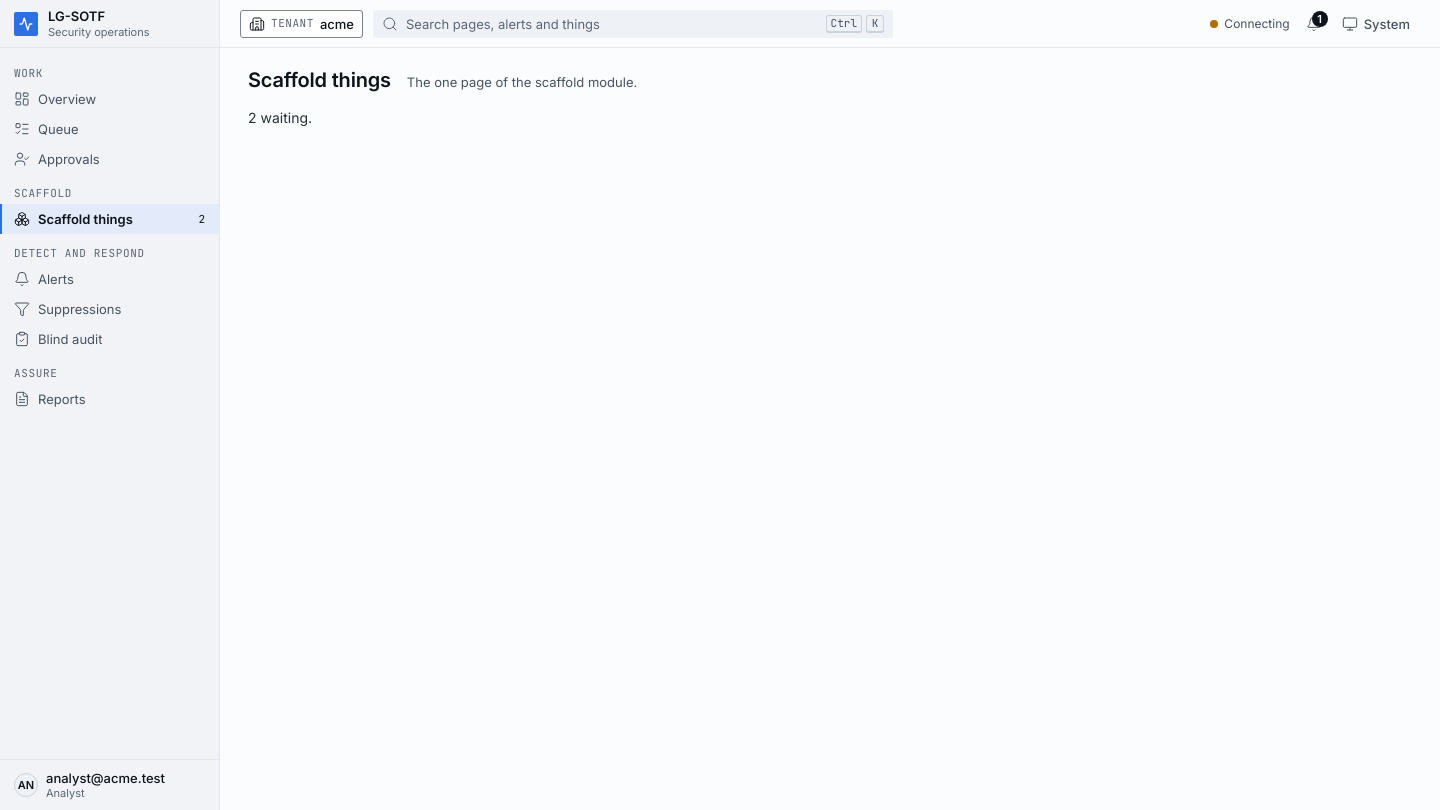
it: a module is its folder and one registry line › adds its notice to the notifications and its records and command to the search field
The image size is (1440, 810).
# The module's notice hook, beside the SOC's (which has nothing to report here).
Click the button named "Notifications: 1 needs an act": (1314,24) [1300,10,1328,38]
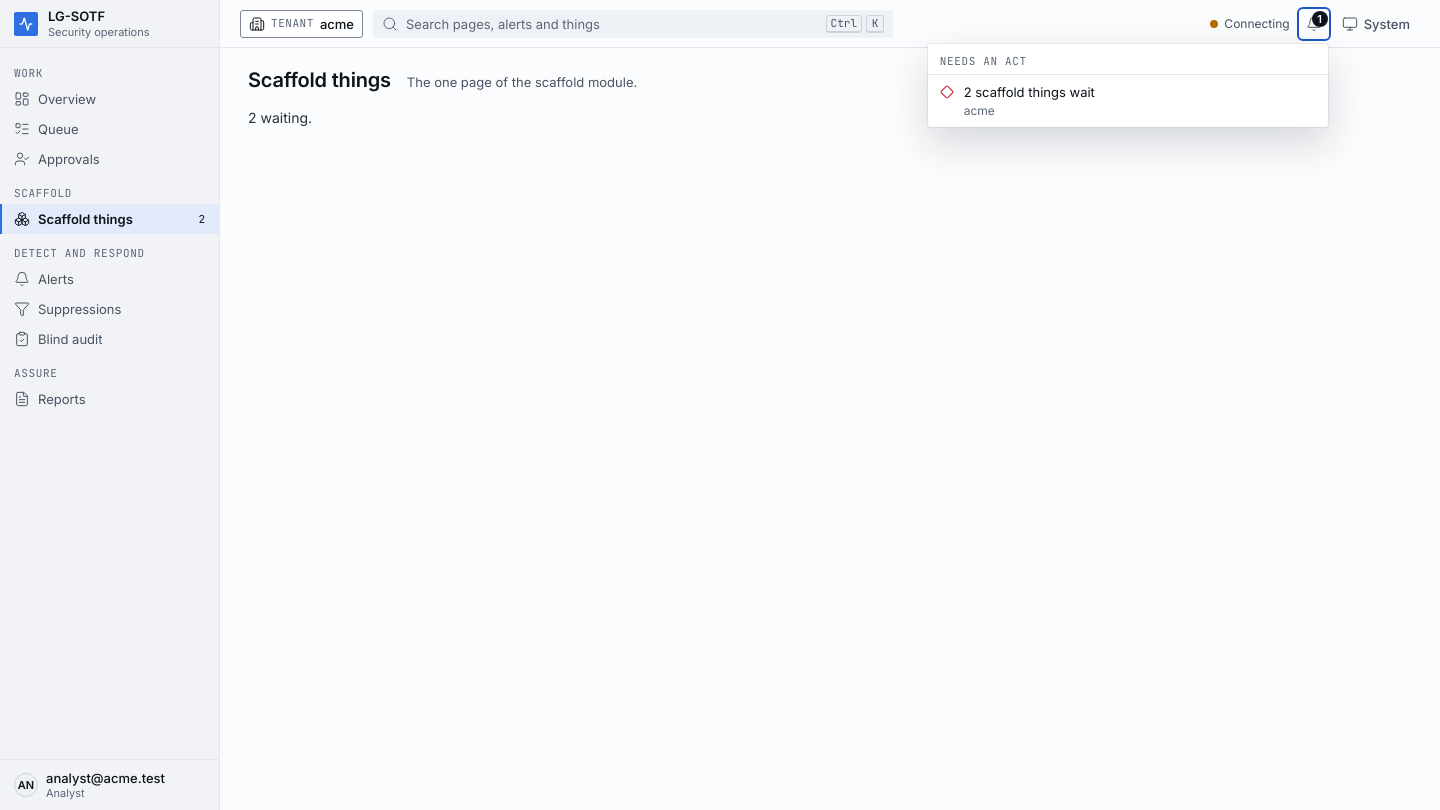
Press Escape
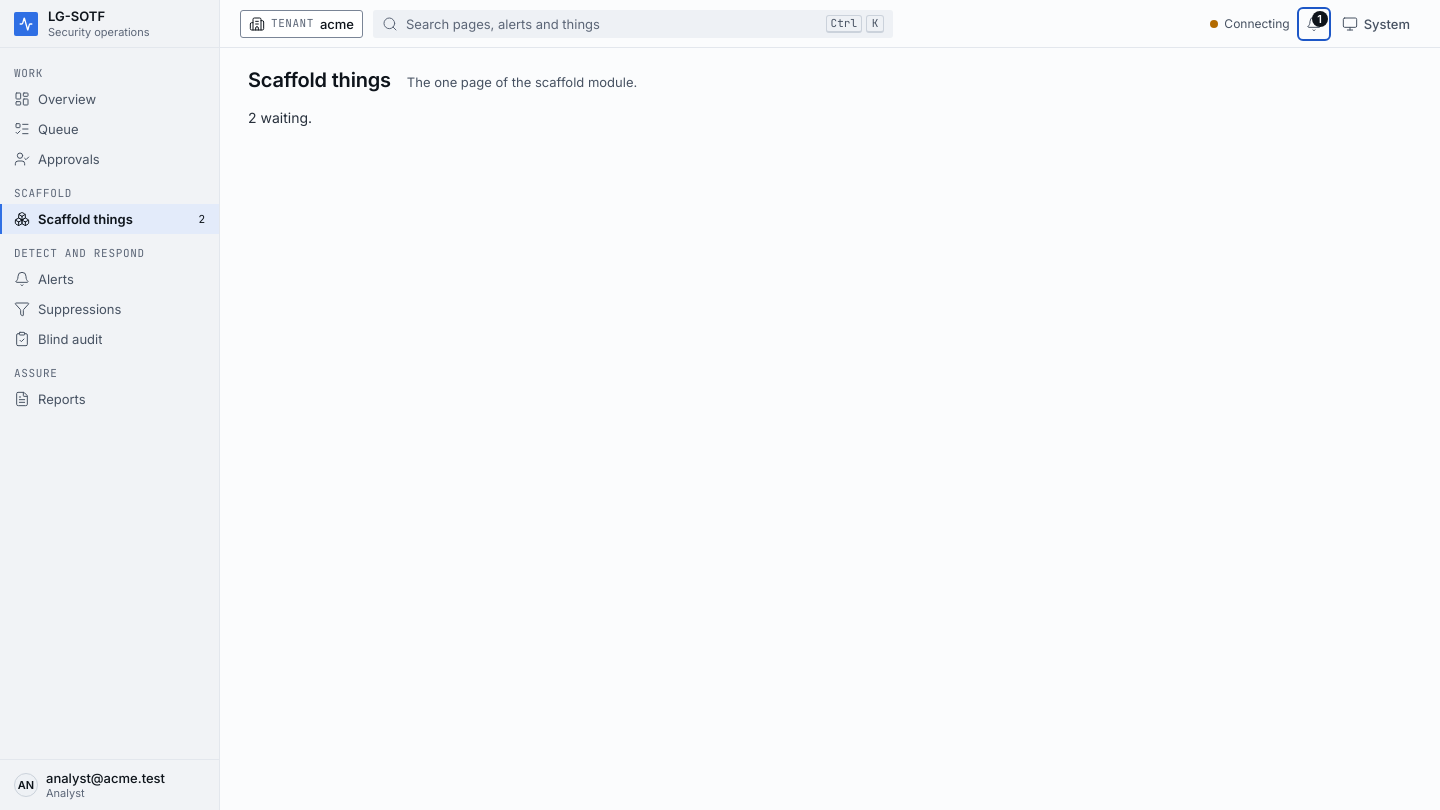
Click the button "Search pages, alerts and things Ctrl K": (503,24) [373,10,893,38]
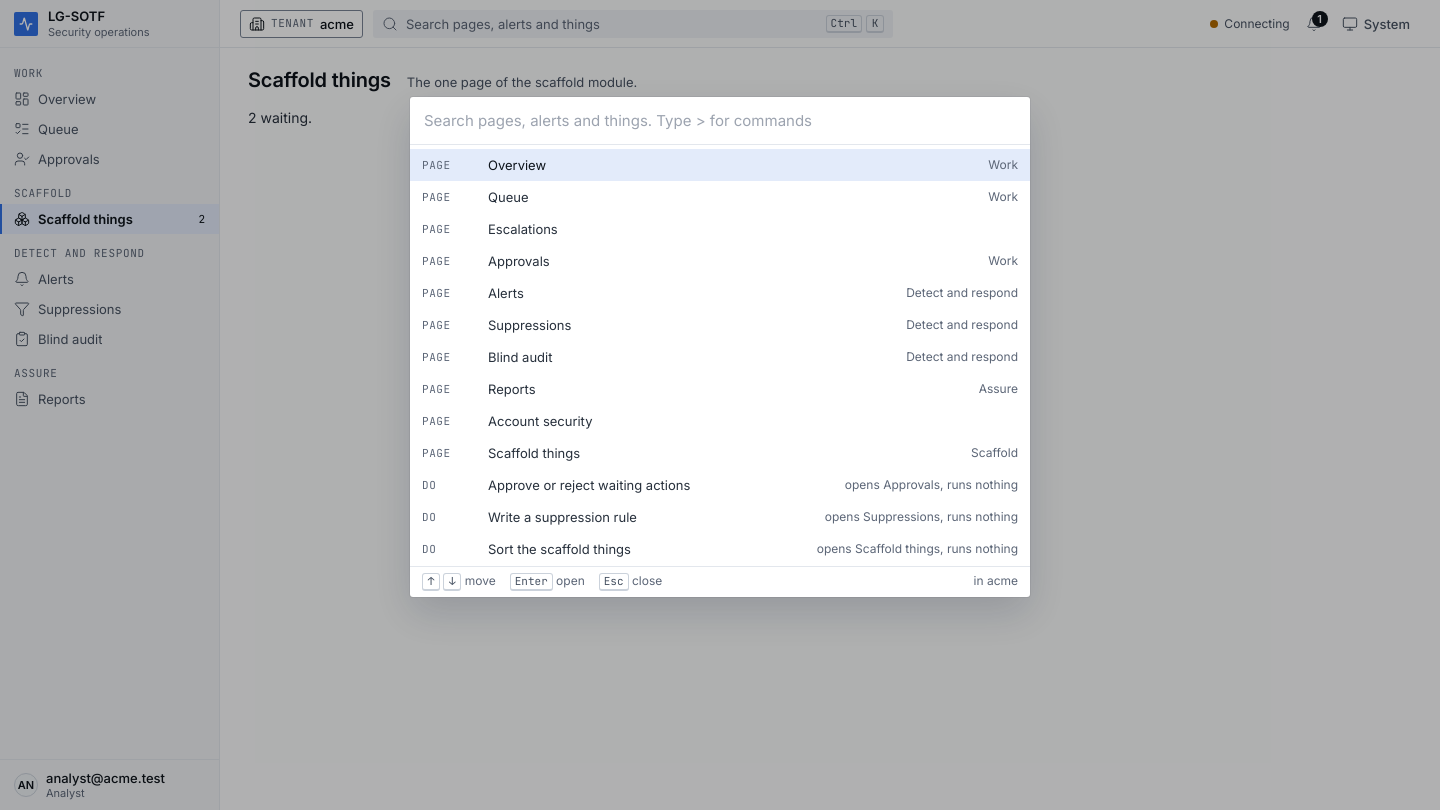
Type keys "wilhelmina"
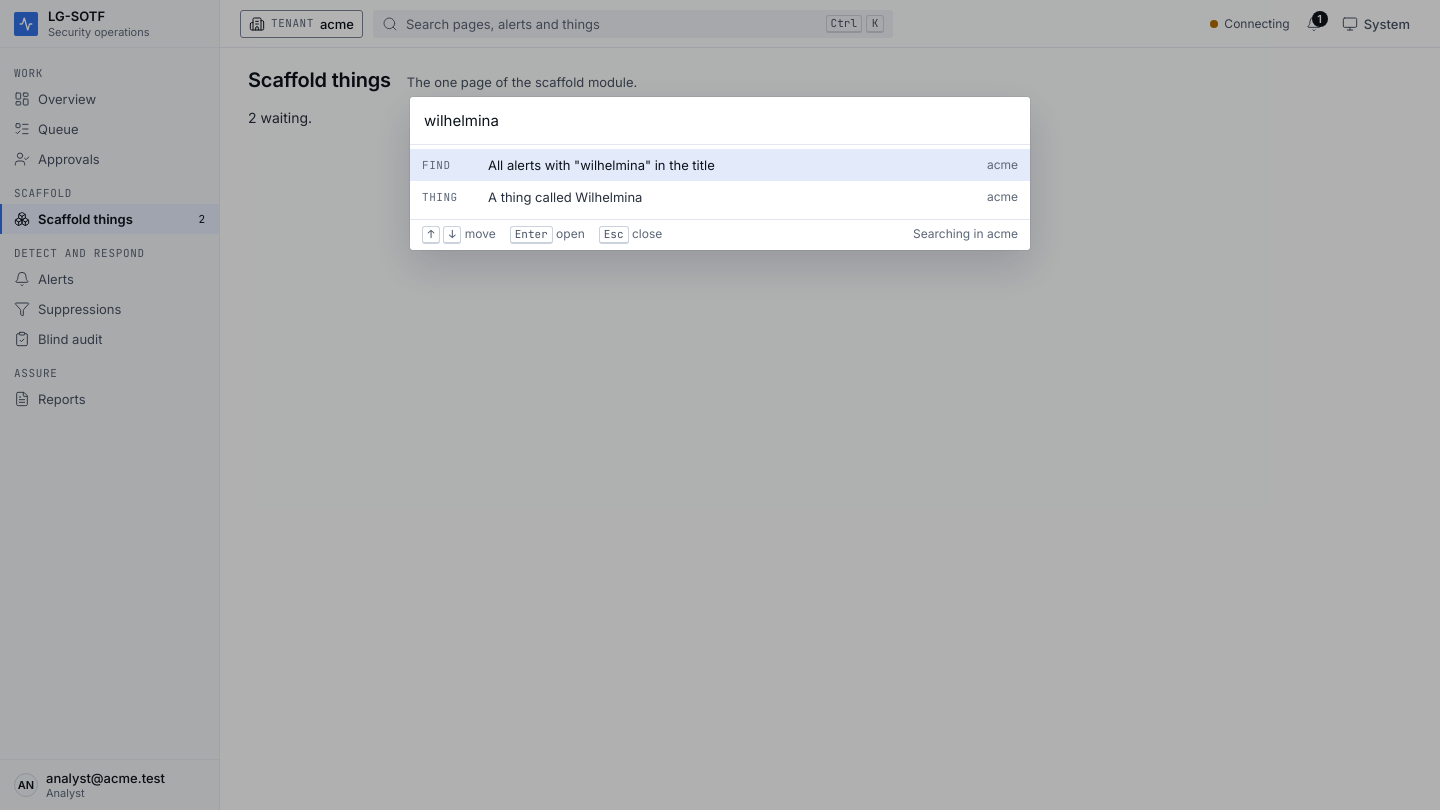
Expected: the option "Thing A thing called Wilhelmina acme" is shown, [422,189,1018,205]
Clear the dropdown: (720,121) [410,97,1030,145]
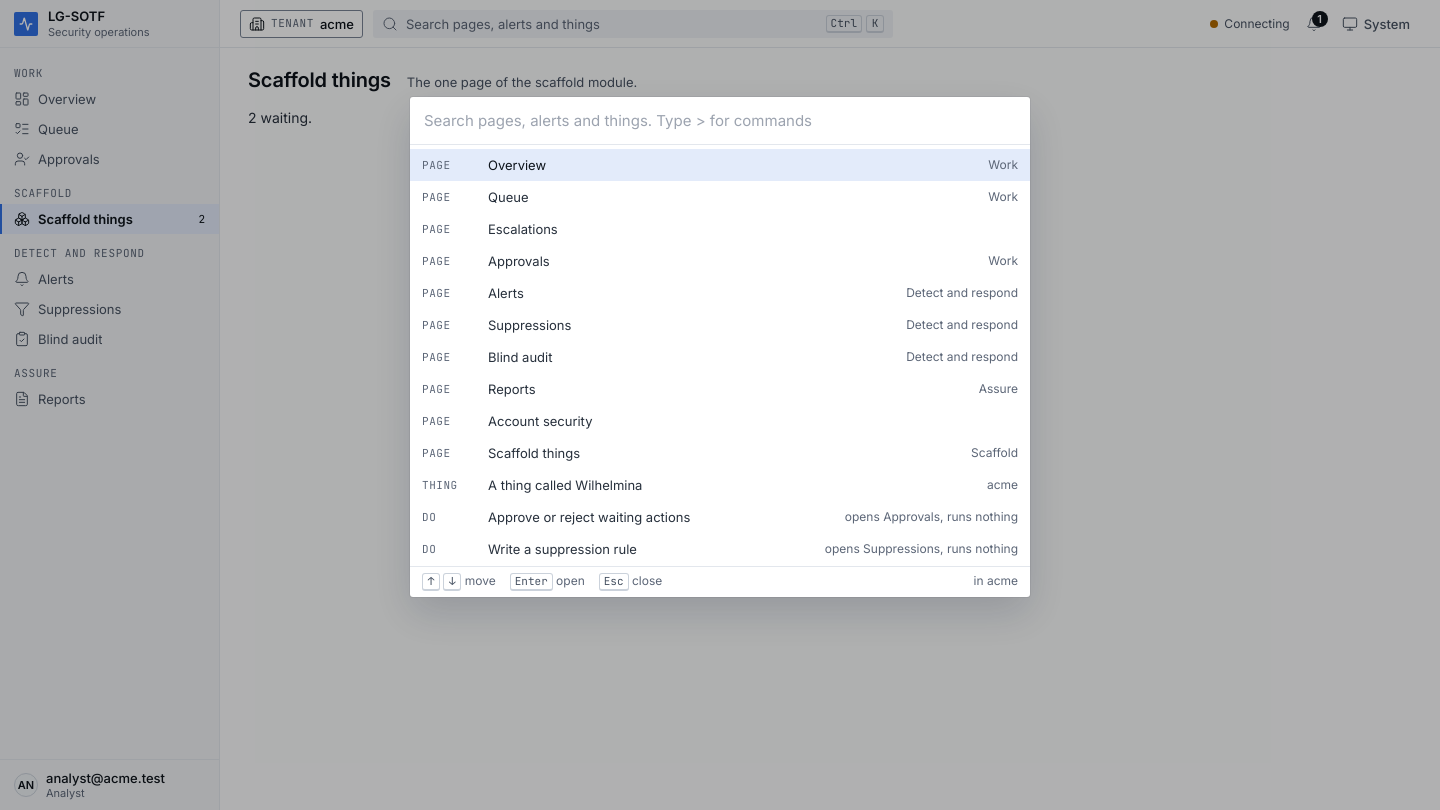
Type keys ">sort"
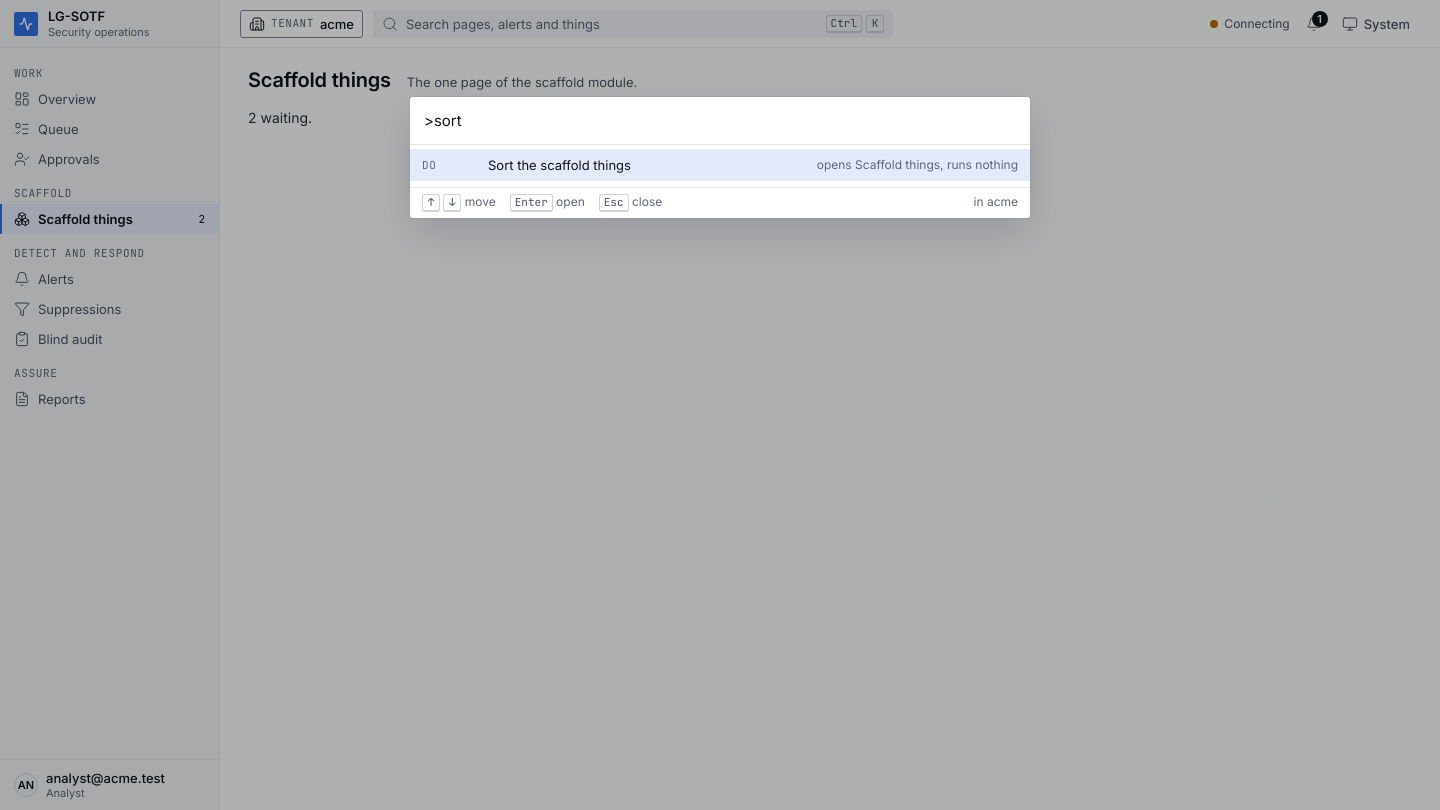
Expected: the option "Sort the scaffold things" shows "opens Scaffold things, runs nothing", [410,149,1030,181]
